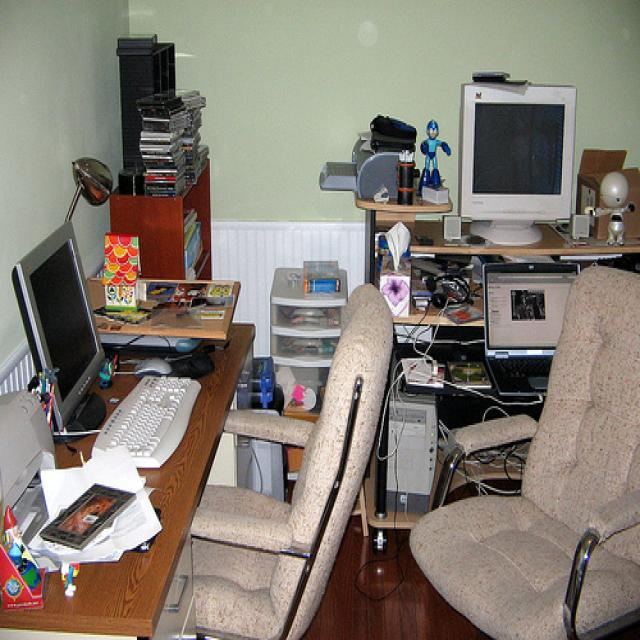chair: (409, 266, 640, 640), (189, 281, 395, 639)
tvmonitor: (10, 216, 108, 441), (458, 79, 578, 247)
